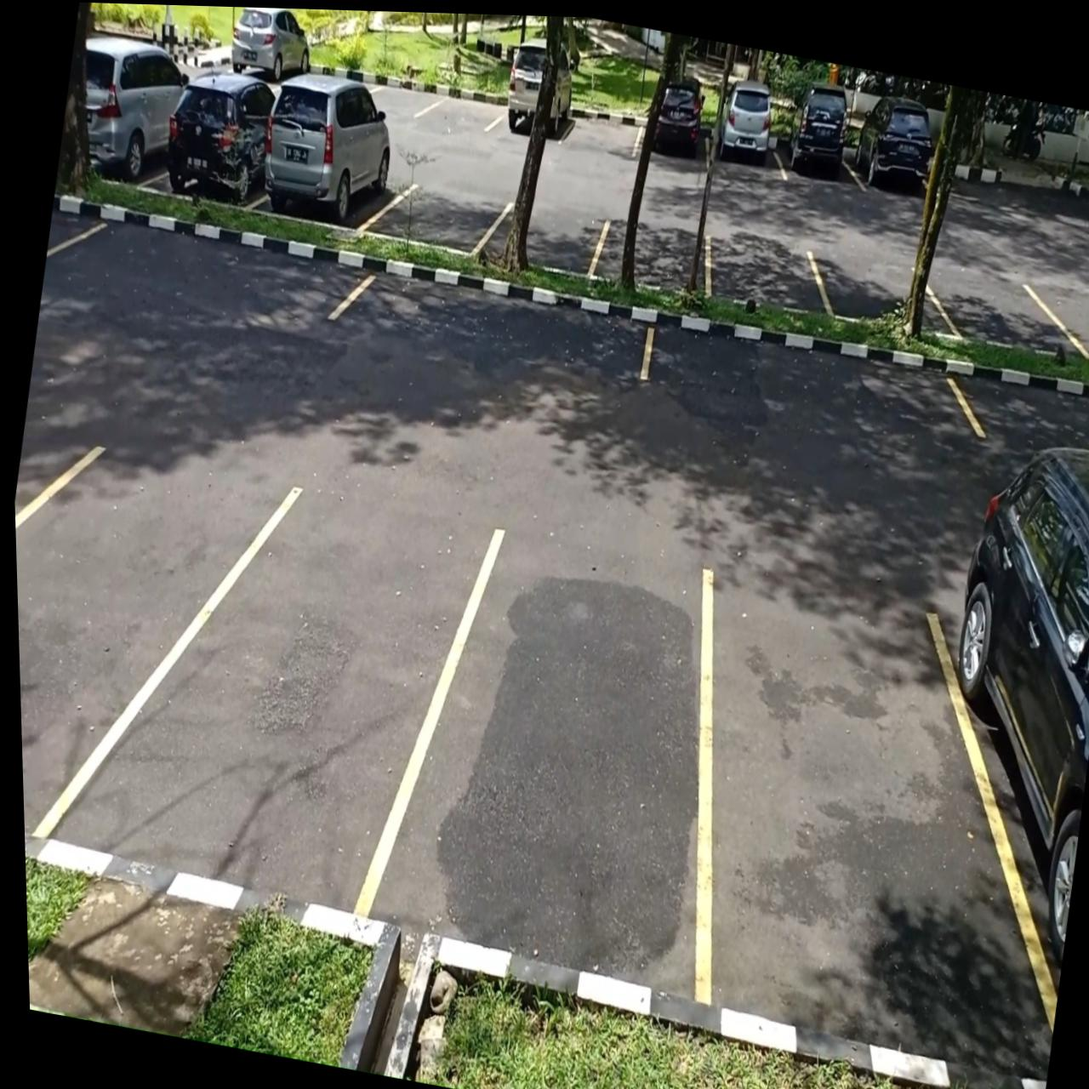cars: (247, 163, 414, 231), (772, 145, 865, 190), (487, 103, 580, 142), (707, 133, 785, 179), (634, 123, 708, 168)
empty: (32, 490, 499, 934), (354, 533, 708, 1015), (701, 576, 1054, 1019), (16, 448, 295, 846), (645, 318, 981, 435), (333, 267, 654, 376), (49, 218, 381, 317), (913, 269, 1089, 361), (809, 253, 960, 339), (359, 185, 511, 255), (472, 205, 608, 276), (708, 238, 831, 316), (589, 222, 709, 297), (417, 93, 515, 130), (560, 113, 643, 156)
